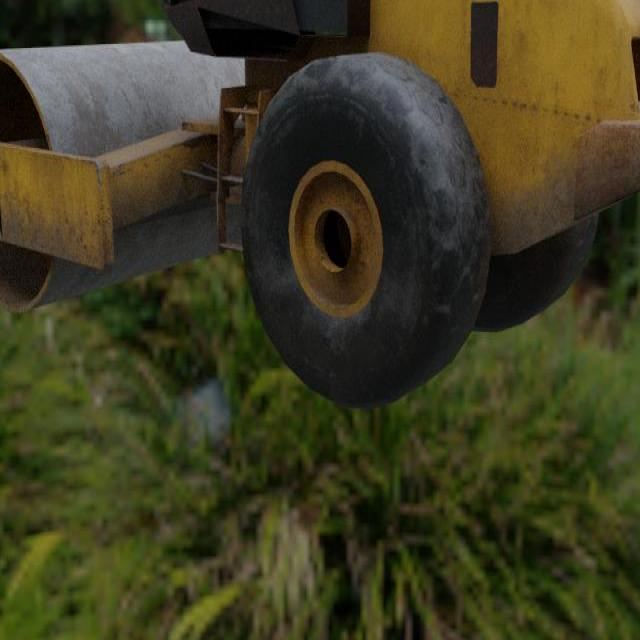Roller: (0, 0, 640, 412)
